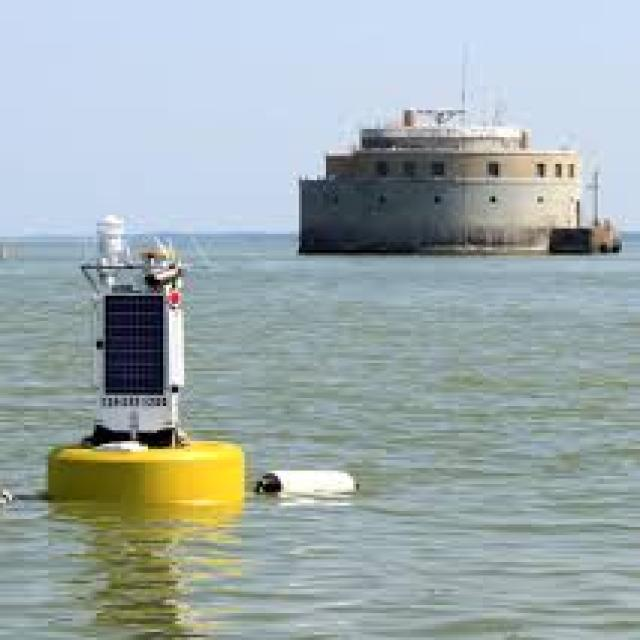marque: (50, 206, 252, 519)
